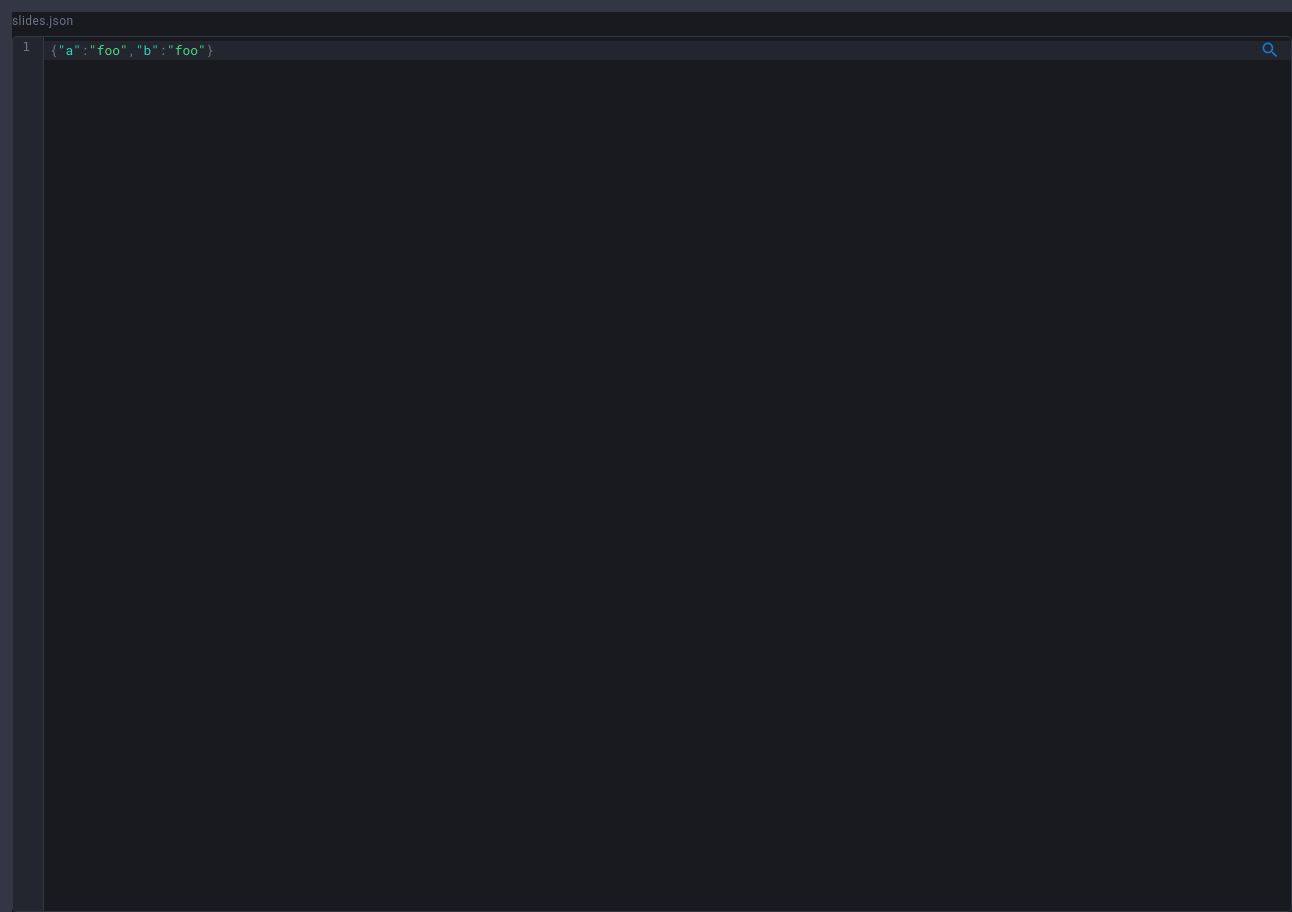
Test: SlideJsonEditor › 検索クエリを入力するとマッチ数が表示され、次/前へ移動できる
Press f in the field named "slides.json", box top-left (44, 41), bottom-right (1291, 60)
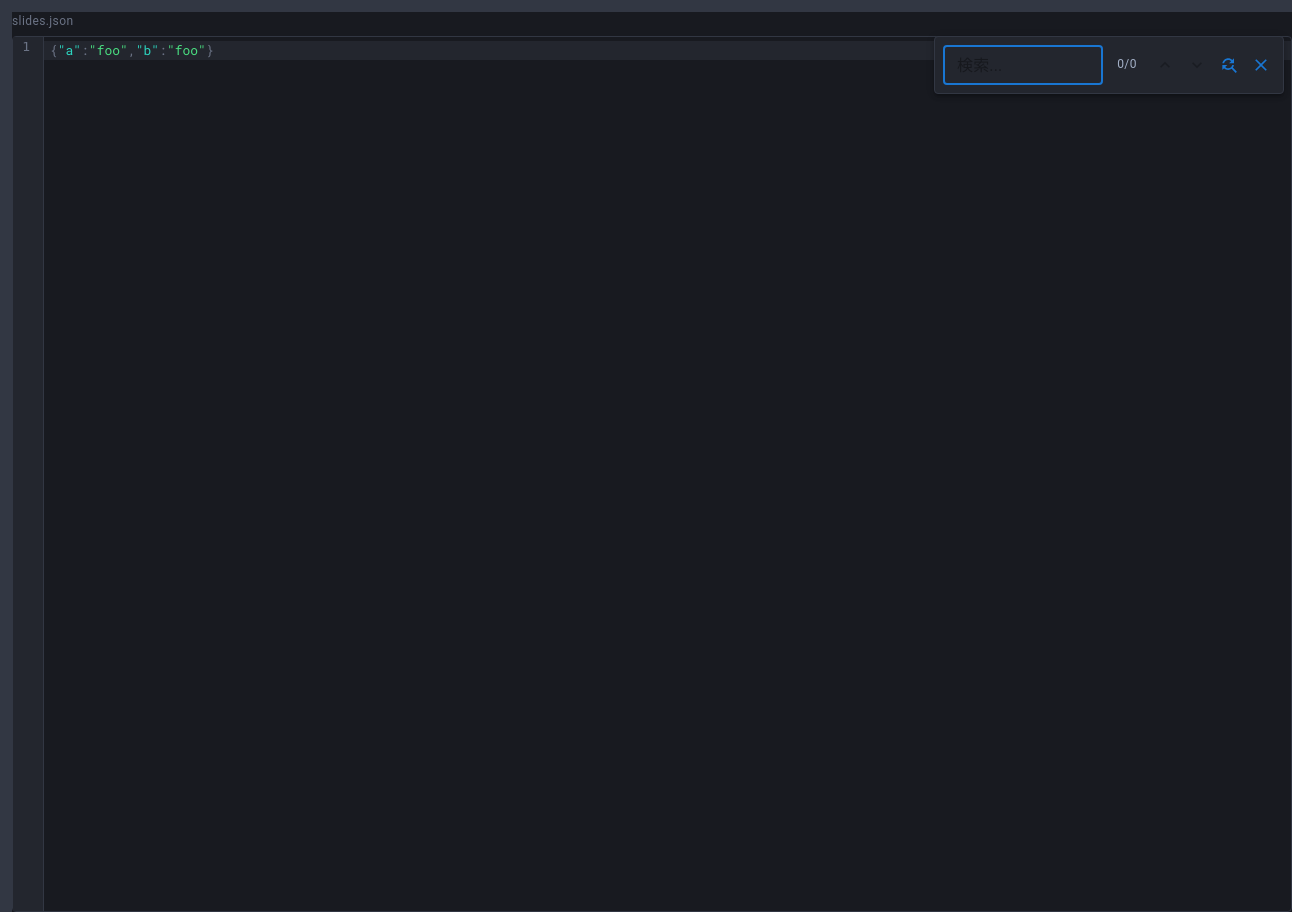
Type "foo" into the field with placeholder "検索..." at [1023, 65], box top-left (943, 45), bottom-right (1103, 85)
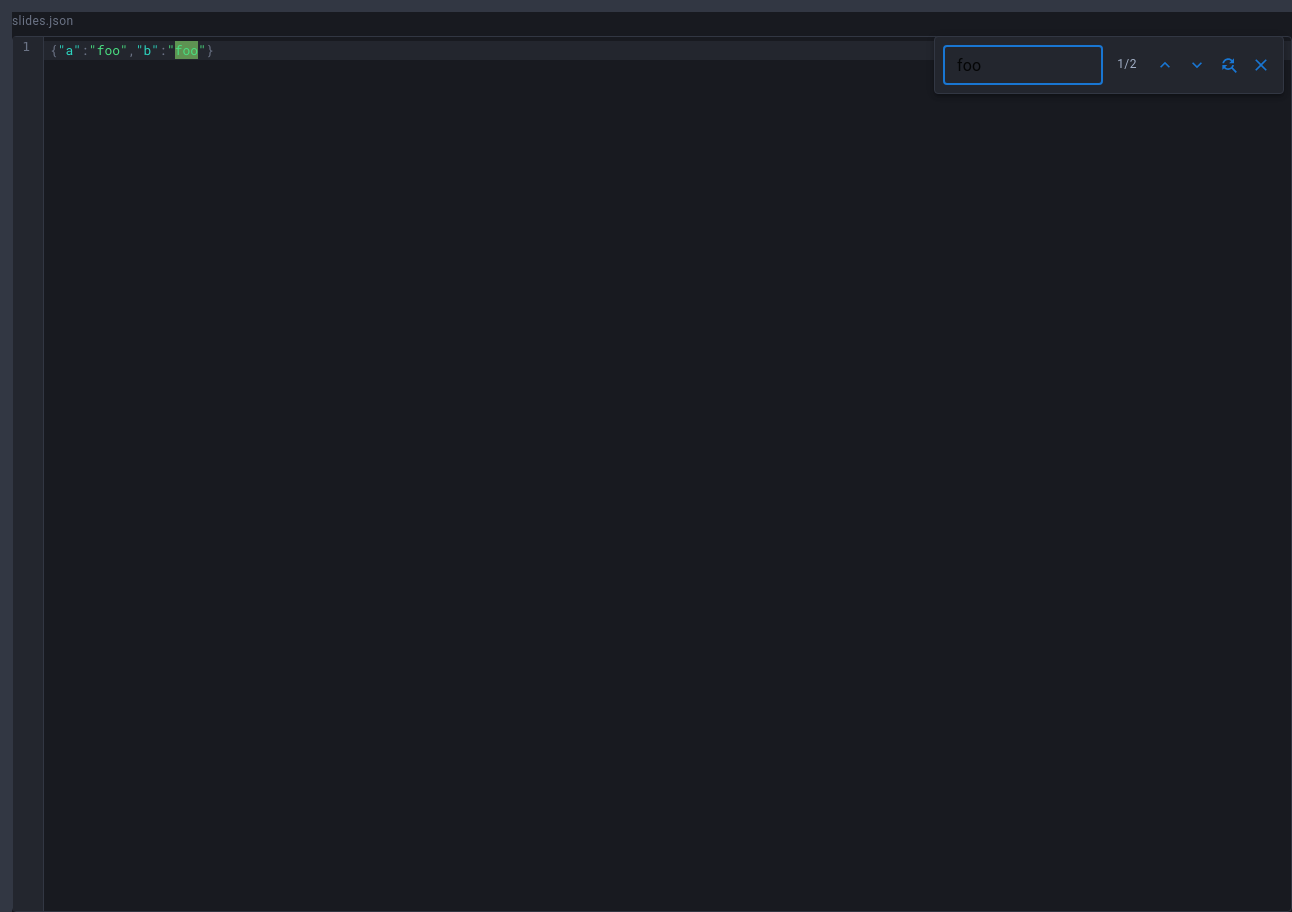
Expected: the text "1/2" is shown, top-left (1117, 57), bottom-right (1137, 71)
Click the button named "次のマッチへ" at [1197, 65], box top-left (1183, 51), bottom-right (1211, 79)
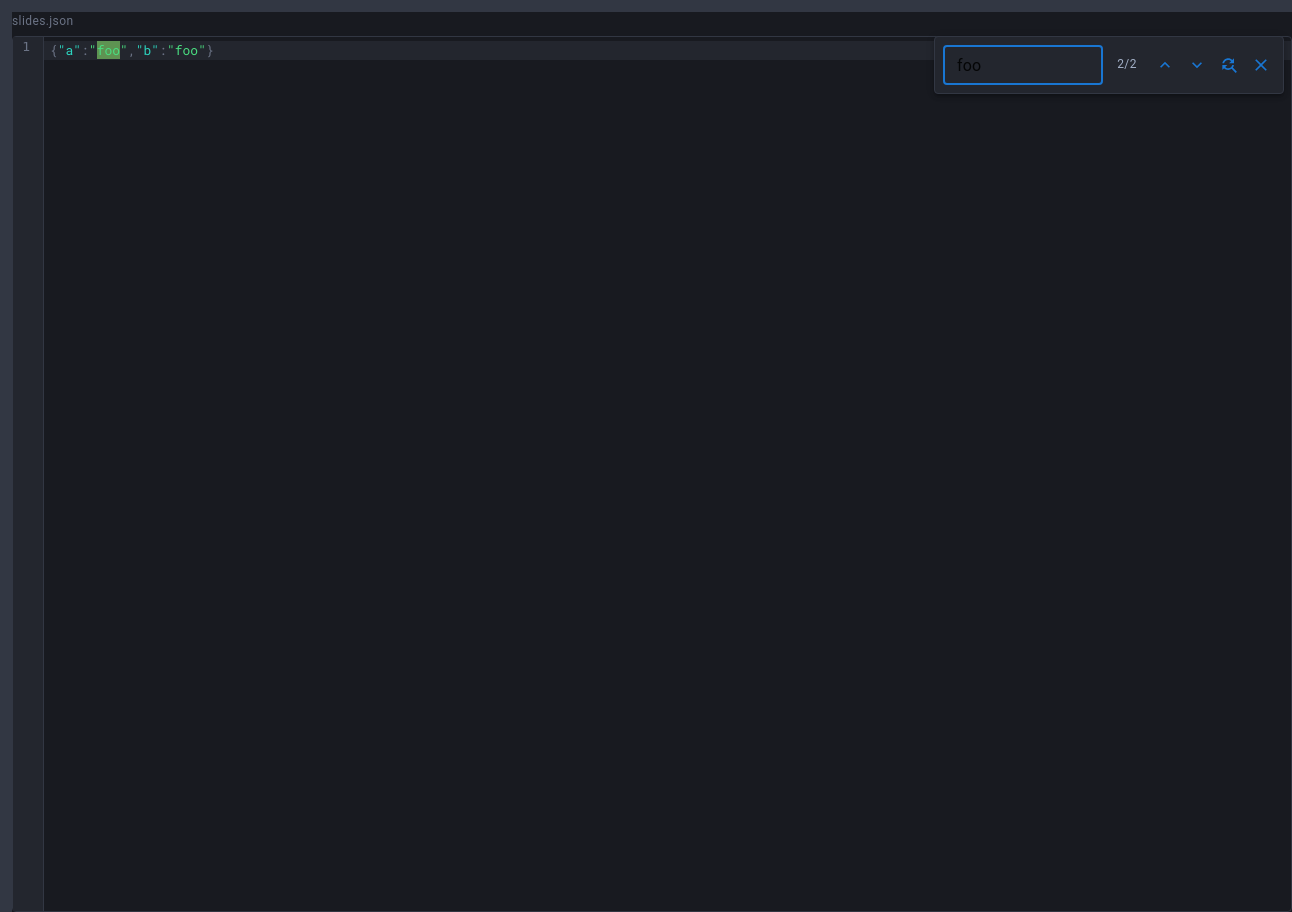
Expected: the text "2/2" is shown, top-left (1117, 57), bottom-right (1137, 71)
Click the button named "前のマッチへ" at [1165, 65], box top-left (1151, 51), bottom-right (1179, 79)
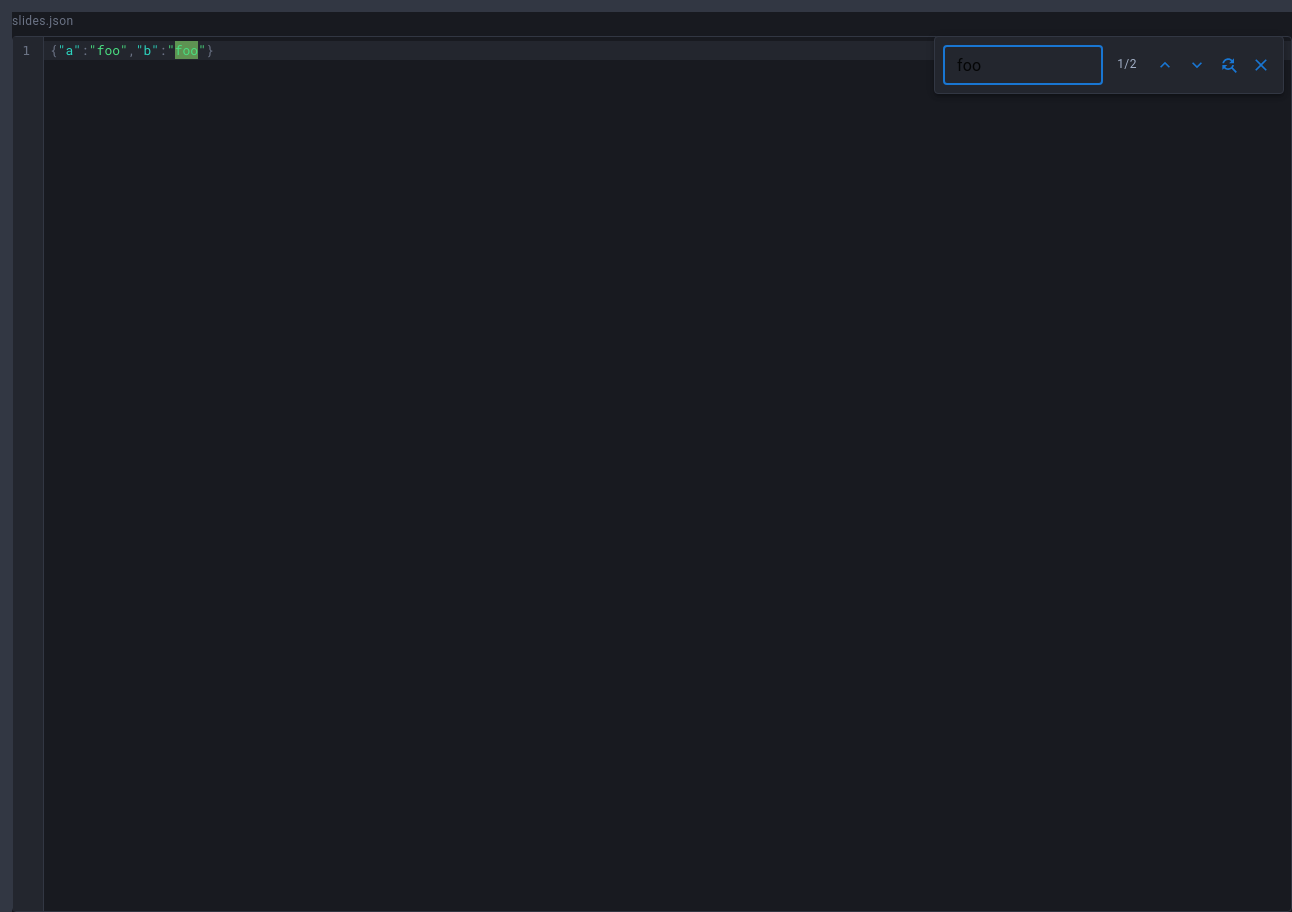
Expected: the text "1/2" is shown, top-left (1117, 57), bottom-right (1137, 71)
